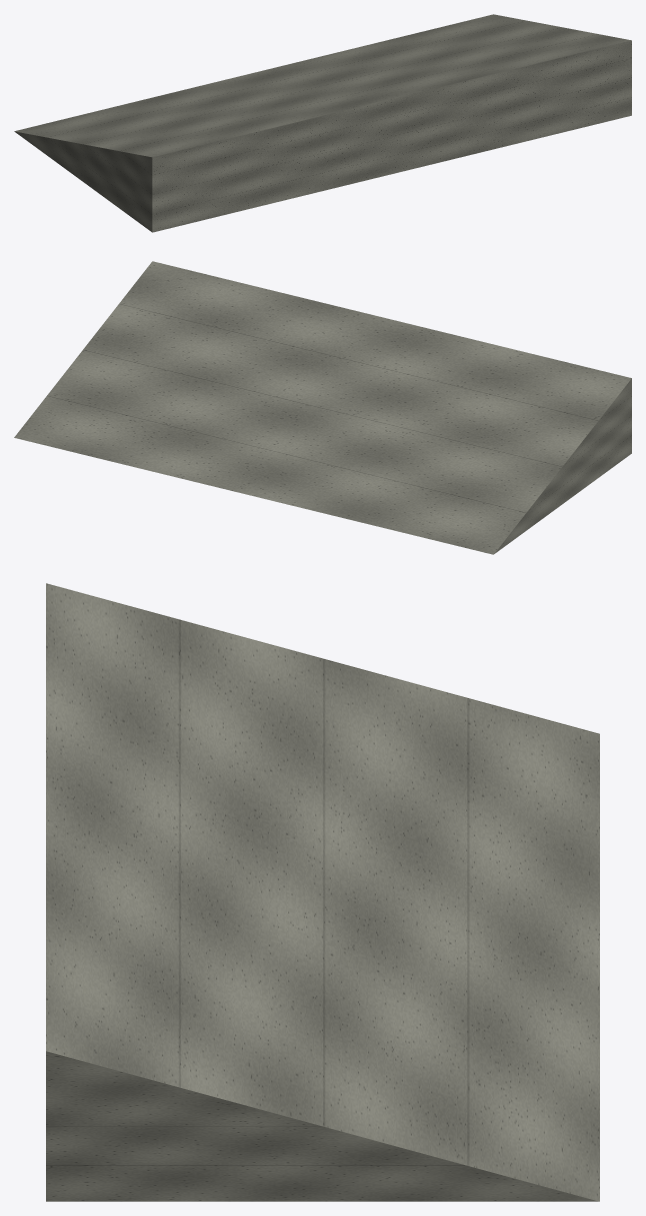
File: ramp.glb
The picture shows the model from 3 angles, top to bottom: view 1: azimuth 30°, elevation 25°; view 2: azimuth 150°, elevation 25°; view 3: azimuth 270°, elevation 25°; orthographic projection. The views are drawn at different scales.
Visible parts, largest first — view 1: ramp; view 2: ramp; view 3: ramp.
Part boxes in pixels (box(x1,y1,x2,y2)): ramp: box(14, 14, 631, 232); ramp: box(14, 261, 631, 554); ramp: box(46, 583, 599, 1201).
Size of the model in its own units: 8 by 1.2 by 4.
1 material, 1 textured.
